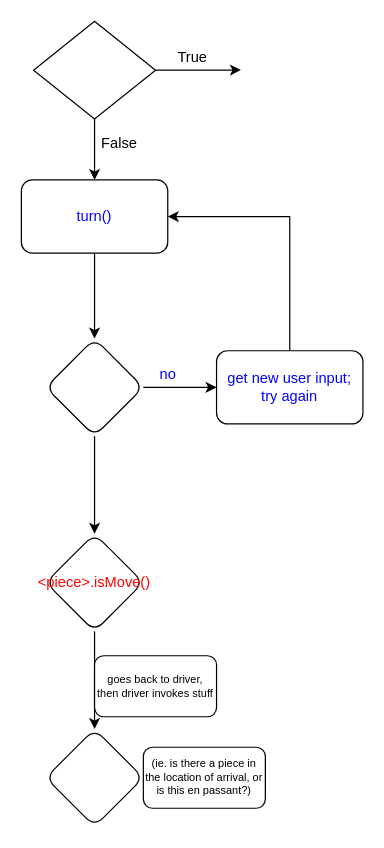
Some shapes in this 384 by 848 pixel diagram are drawn without their labels. Each missing label, with the centre of its shape:
"does this move require capturing a piece?" belongs at pixel 94 777.
"is _over?" belongs at pixel 94 69.
"is user input a move?" belongs at pixel 94 386.
